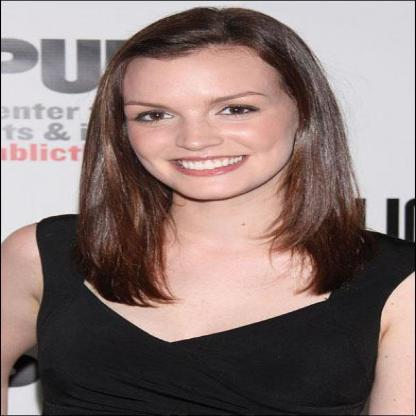long-hair: (55, 200, 382, 283)
